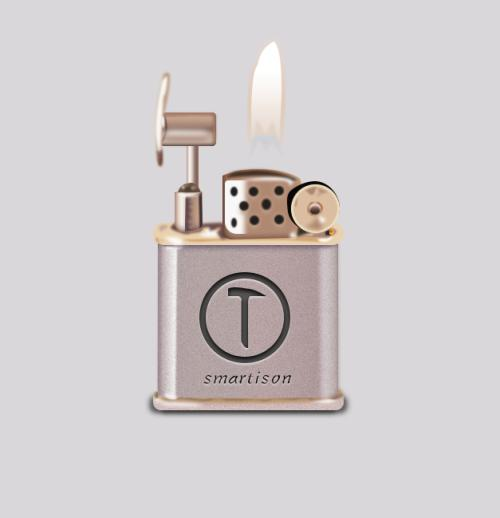fire: (232, 30, 301, 188)
